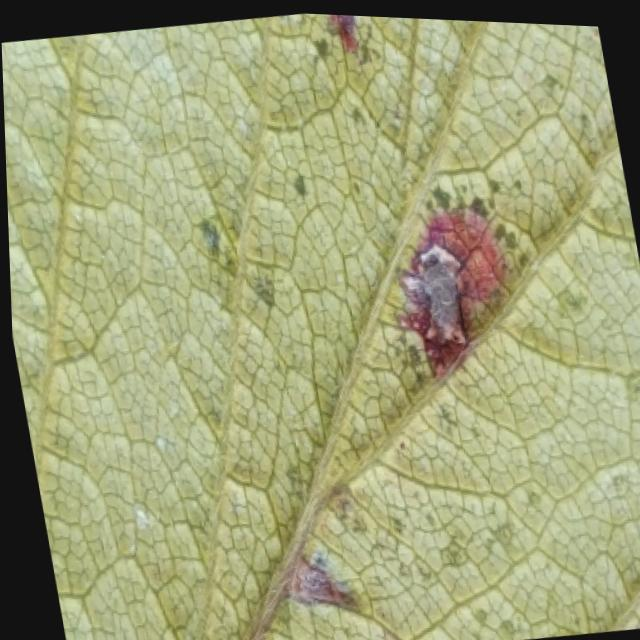Angular Leafspot: (146, 10, 640, 640)
